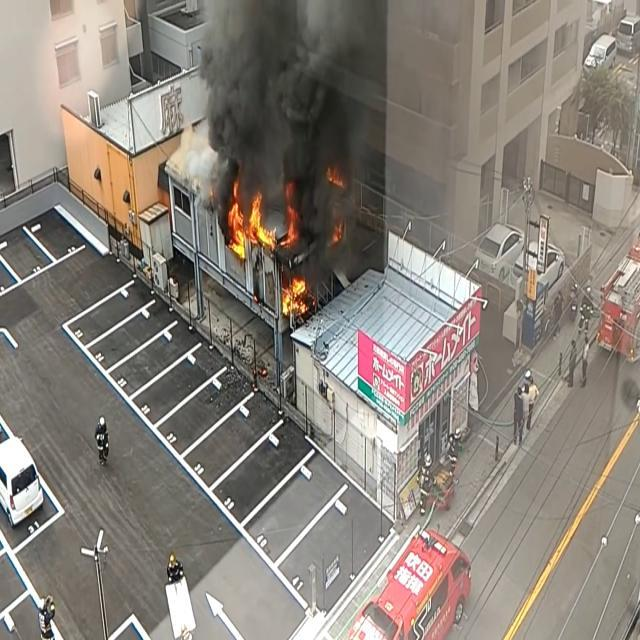Fire: (225, 182, 279, 260), (280, 269, 312, 319)
Smoke: (190, 0, 385, 236)
